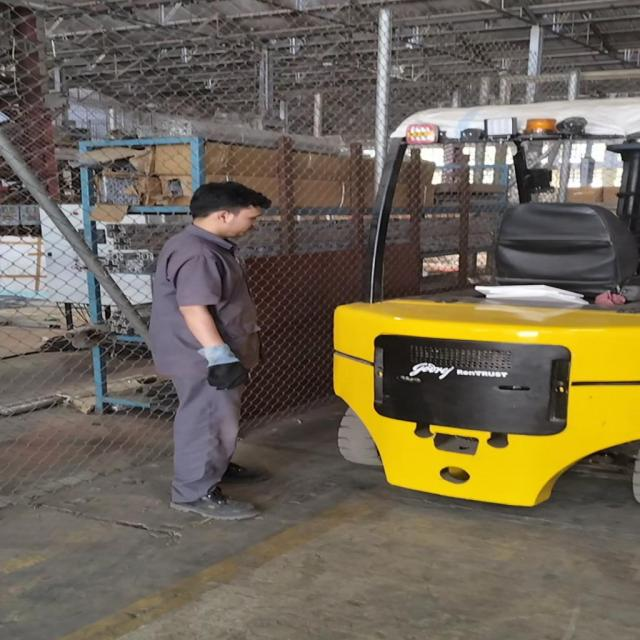Gloves-Detection: (198, 338, 251, 412)
